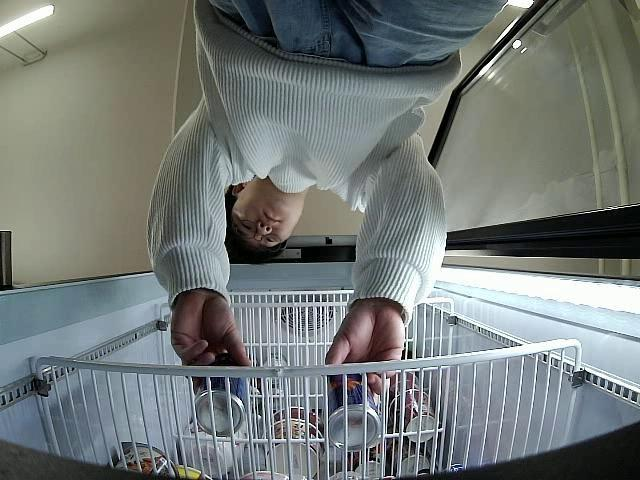16_hot6: (325, 366, 382, 454), (193, 355, 248, 436)
